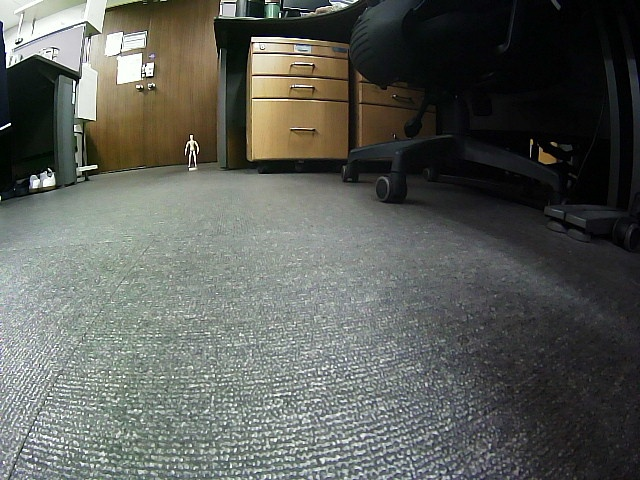person: (184, 133, 199, 167)
